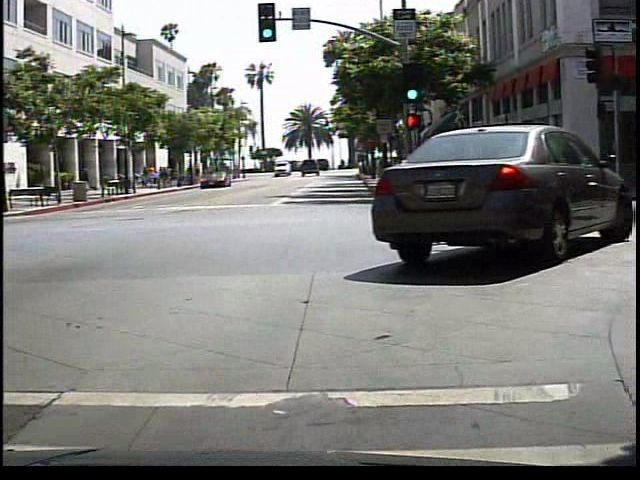person: (75, 160, 93, 192)
